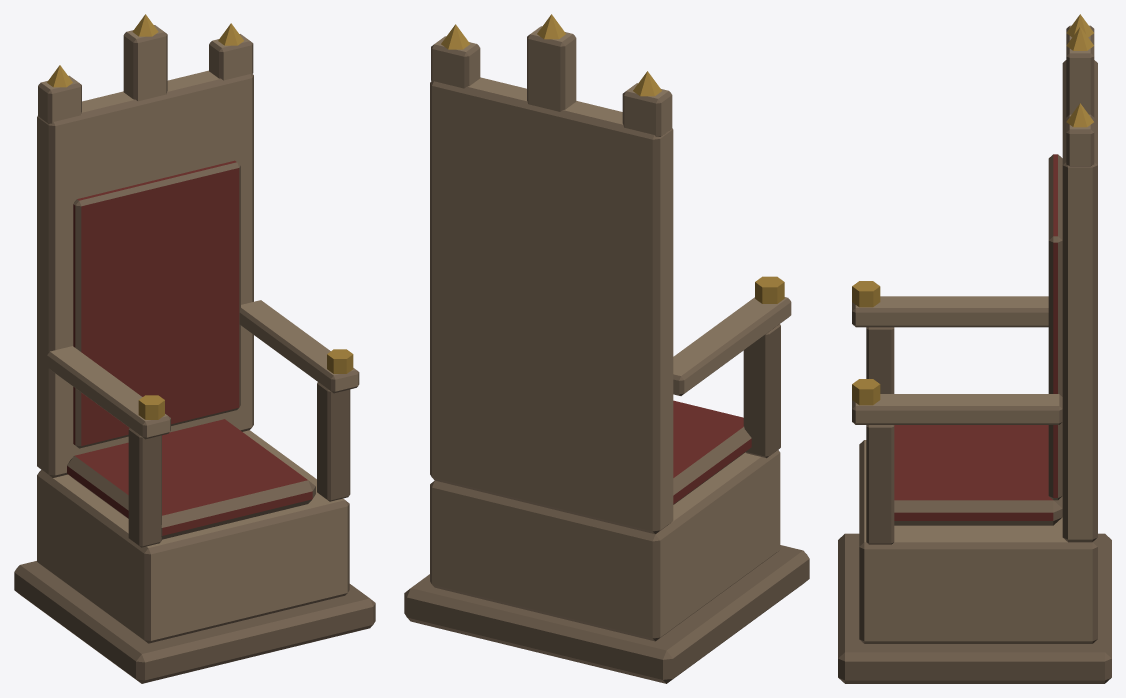
The model's file is throne.glb.
3 renders of one model, left to right at view 1: azimuth 30°, elevation 25°; view 2: azimuth 150°, elevation 25°; view 3: azimuth 270°, elevation 25°, orthographic. The views are drawn at different scales.
Visible parts, largest first — view 1: Throne; view 2: Throne; view 3: Throne.
Part boxes in pixels (x1,y1,x2,y2): Throne: (14,14,375,683); Throne: (404,14,809,683); Throne: (838,14,1111,683).
Size of the model in its own units: 0.84 by 1.88 by 0.78.
